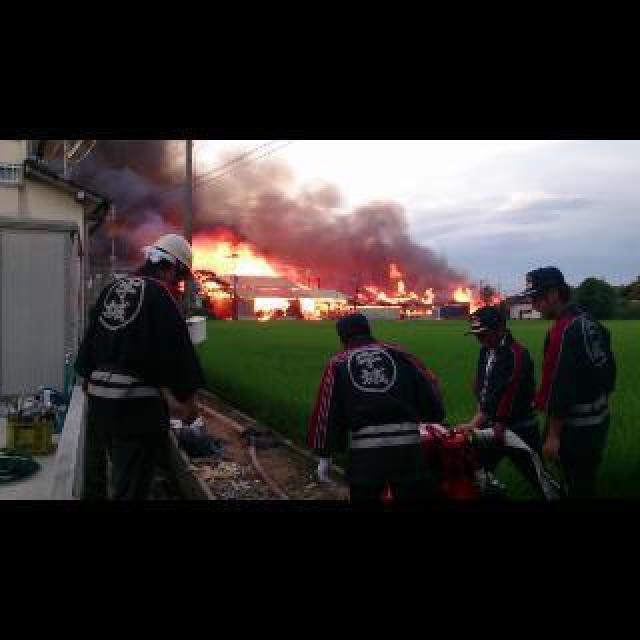fire: (192, 244, 284, 296), (352, 264, 434, 312), (454, 286, 498, 312), (254, 298, 294, 320), (286, 268, 314, 290)
smoke: (214, 162, 420, 268), (298, 298, 352, 318)
